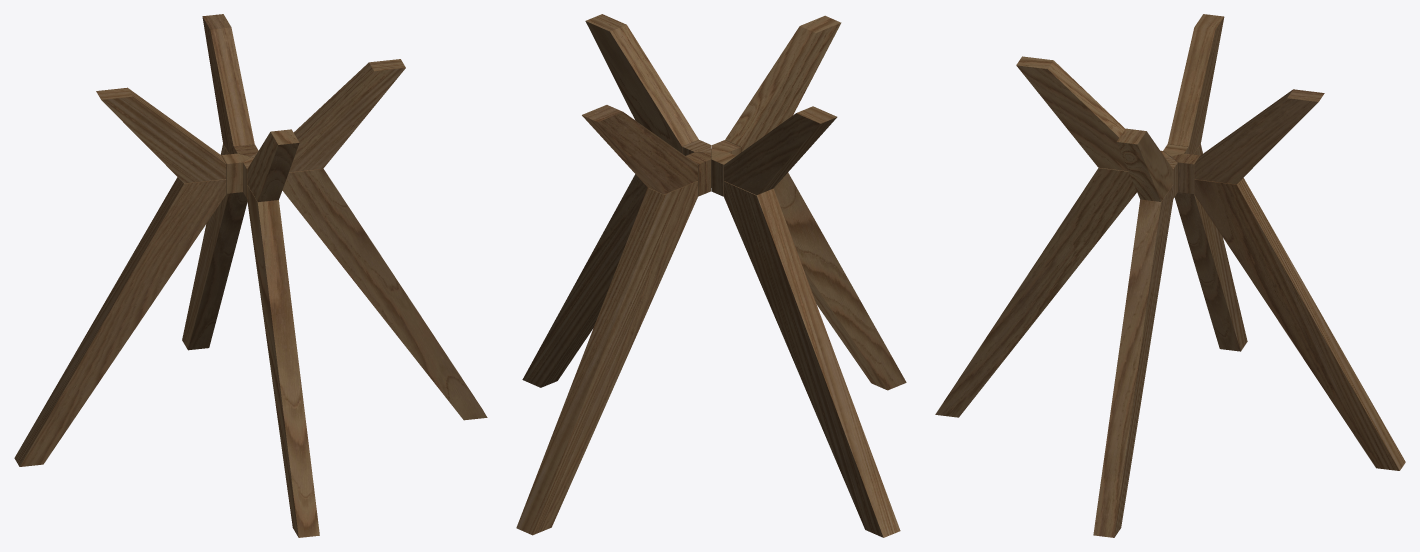
File: triple_leg.glb
3 views of the same model, side by side, from view 1: azimuth 30°, elevation 25°; view 2: azimuth 150°, elevation 25°; view 3: azimuth 270°, elevation 25° (orthographic). The views are drawn at different scales.
Parts seen in each view (by area): view 1: Body_1_3, Body_1_3_IE_wood_beech_v1_alt1_0.002, Body_1_3_IE_wood_beech_v1_alt1_0.001, Body_1_4_IE_wood_beech_v1_alt1_0.002, Body_1_3_IE_wood_beech_v1_alt1_0.003, Body_1_4, Body_1_4_IE_wood_beech_v1_alt1_0.003, Body_1_4_IE_wood_beech_v1_alt1_0.001, Body_1_2; view 2: Body_1_3_IE_wood_beech_v1_alt1_0.003, Body_1_3, Body_1_3_IE_wood_beech_v1_alt1_0.001, Body_1_3_IE_wood_beech_v1_alt1_0.002, Body_1_4_IE_wood_beech_v1_alt1_0.002, Body_1_4_IE_wood_beech_v1_alt1_0.001, Body_1_4_IE_wood_beech_v1_alt1_0.003, Body_1_4, Body_1_2_IE_wood_beech_v1_alt1_0.003, Body_1_2; view 3: Body_1_3_IE_wood_beech_v1_alt1_0.003, Body_1_3_IE_wood_beech_v1_alt1_0.002, Body_1_3_IE_wood_beech_v1_alt1_0.001, Body_1_4_IE_wood_beech_v1_alt1_0.001, Body_1_3, Body_1_4_IE_wood_beech_v1_alt1_0.003, Body_1_4, Body_1_4_IE_wood_beech_v1_alt1_0.002, Body_1_2_IE_wood_beech_v1_alt1_0.003.
Part boxes in pixels (bbox=[...]): Body_1_3: bbox=[14, 177, 226, 466]; Body_1_3_IE_wood_beech_v1_alt1_0.002: bbox=[282, 169, 487, 420]; Body_1_3_IE_wood_beech_v1_alt1_0.001: bbox=[247, 185, 319, 537]; Body_1_4_IE_wood_beech_v1_alt1_0.002: bbox=[289, 59, 405, 172]; Body_1_3_IE_wood_beech_v1_alt1_0.003: bbox=[182, 144, 247, 350]; Body_1_4: bbox=[96, 87, 226, 183]; Body_1_4_IE_wood_beech_v1_alt1_0.003: bbox=[202, 14, 254, 154]; Body_1_4_IE_wood_beech_v1_alt1_0.001: bbox=[247, 129, 299, 201]; Body_1_2: bbox=[221, 153, 250, 193]; Body_1_3_IE_wood_beech_v1_alt1_0.003: bbox=[516, 181, 697, 535]; Body_1_3: bbox=[724, 181, 900, 537]; Body_1_3_IE_wood_beech_v1_alt1_0.001: bbox=[773, 172, 906, 390]; Body_1_3_IE_wood_beech_v1_alt1_0.002: bbox=[522, 174, 647, 387]; Body_1_4_IE_wood_beech_v1_alt1_0.002: bbox=[585, 14, 698, 153]; Body_1_4_IE_wood_beech_v1_alt1_0.001: bbox=[725, 15, 841, 152]; Body_1_4_IE_wood_beech_v1_alt1_0.003: bbox=[582, 105, 697, 194]; Body_1_4: bbox=[724, 106, 837, 195]; Body_1_2_IE_wood_beech_v1_alt1_0.003: bbox=[686, 152, 711, 196]; Body_1_2: bbox=[711, 152, 735, 196]; Body_1_3_IE_wood_beech_v1_alt1_0.003: bbox=[1194, 178, 1405, 470]; Body_1_3_IE_wood_beech_v1_alt1_0.002: bbox=[1093, 185, 1173, 537]; Body_1_3_IE_wood_beech_v1_alt1_0.001: bbox=[935, 167, 1136, 417]; Body_1_4_IE_wood_beech_v1_alt1_0.001: bbox=[1016, 56, 1128, 171]; Body_1_3: bbox=[1174, 144, 1247, 351]; Body_1_4_IE_wood_beech_v1_alt1_0.003: bbox=[1194, 89, 1324, 184]; Body_1_4: bbox=[1167, 14, 1224, 154]; Body_1_4_IE_wood_beech_v1_alt1_0.002: bbox=[1116, 128, 1173, 201]; Body_1_2_IE_wood_beech_v1_alt1_0.003: bbox=[1171, 153, 1199, 193].
Size of the model in its own units: 85.95 by 72.38 by 85.95.
1 material, 1 textured.
